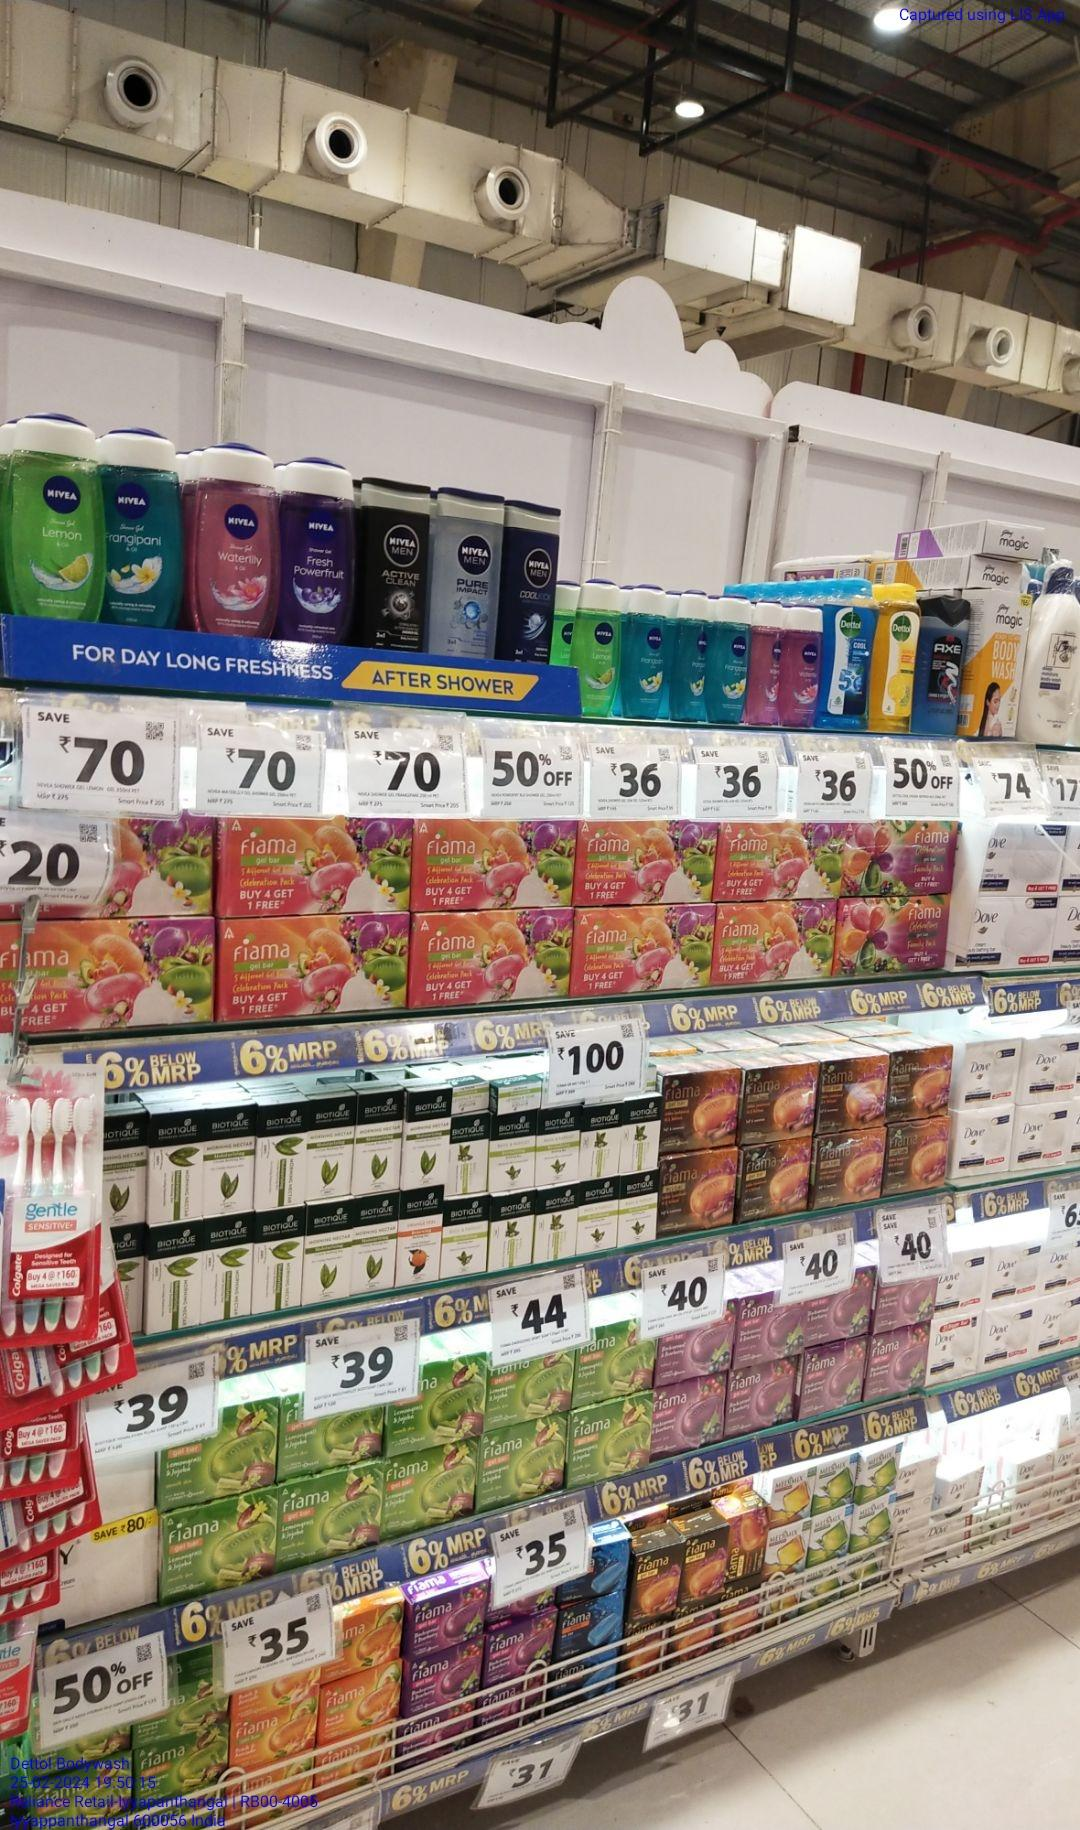Dettol_Bodywash_Cool: (825, 578, 869, 731)
Dettol_Bodywash_Refresh: (876, 583, 922, 735)
Nivea_Shower_Gel_Frangipani_and_Oil_250ML: (108, 429, 185, 626), (629, 586, 665, 718), (719, 595, 751, 724), (676, 592, 708, 720)
Nivea_Shower_Gel_Lemon_and_Oil_250ML: (9, 414, 103, 621), (579, 581, 616, 718)
Nivea_Shower_Gel_Waterlily_and_Oil_250ML: (203, 443, 283, 635), (751, 601, 786, 725), (786, 604, 820, 726)
